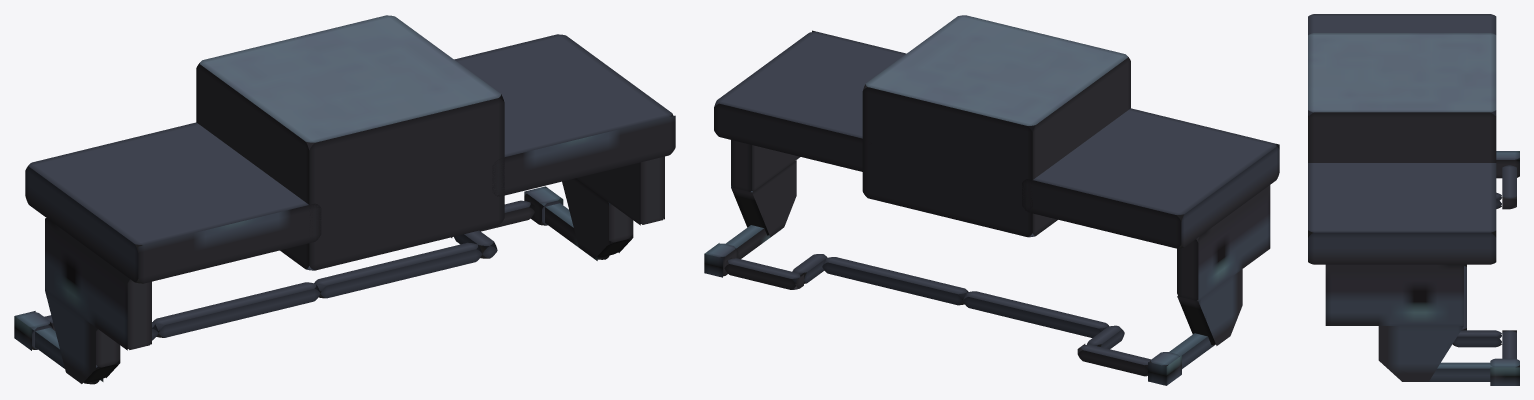
Rendered from jy290_top.obj.
The picture shows the model from 3 angles, left to right: view 1: azimuth 30°, elevation 25°; view 2: azimuth 150°, elevation 25°; view 3: azimuth 270°, elevation 25°; orthographic projection. The views are drawn at different scales.
Parts seen in each view (by area): view 1: 定位方块; view 2: 定位方块; view 3: 定位方块.
Part boxes in pixels (box(x1,y1,x2,y2)): 定位方块: box(14, 15, 675, 384); 定位方块: box(704, 15, 1279, 385); 定位方块: box(1308, 14, 1519, 385).
Bounding box in the file's own units: 2.75 × 1.2 × 1.12.
